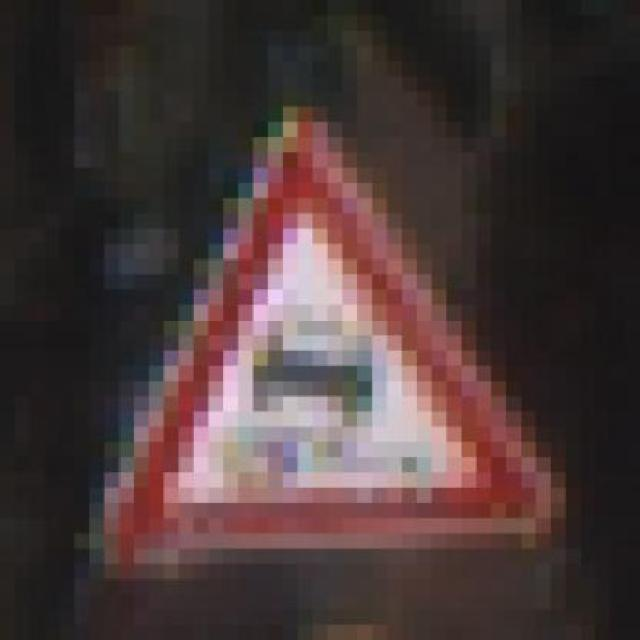Slippery Road Ahead: (89, 92, 566, 579)
